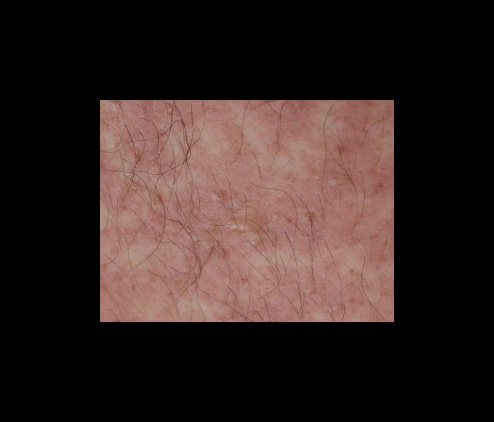SJS-TEN: (98, 98, 394, 322)
